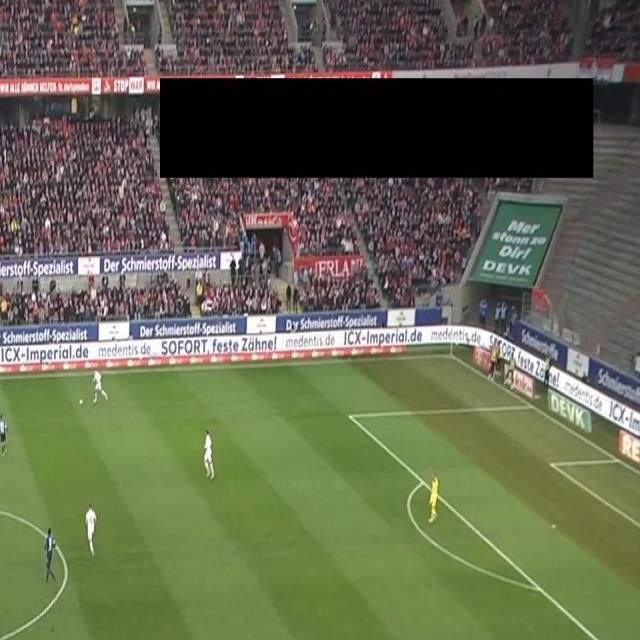ball: (78, 397, 84, 407)
